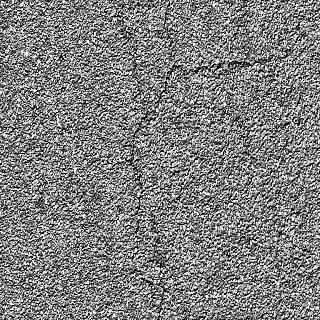crack: (128, 65, 175, 320), (173, 58, 265, 78), (161, 0, 180, 74)
